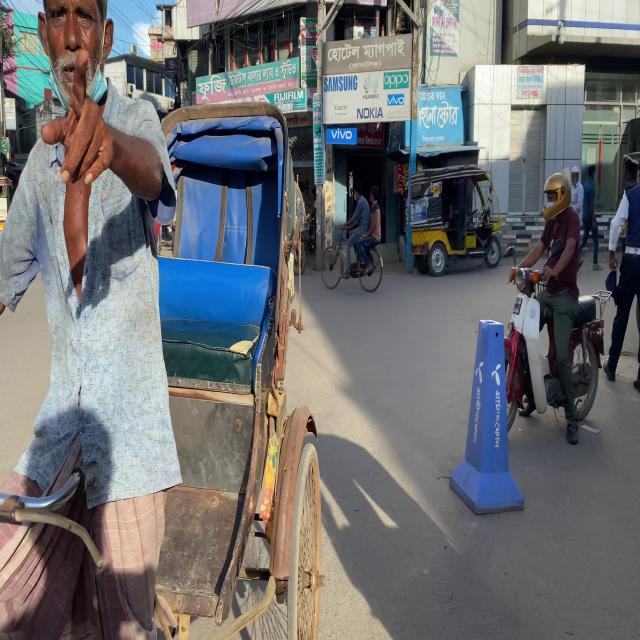bike: (495, 252, 613, 430)
rickshaw: (5, 116, 328, 634), (394, 145, 504, 274)
